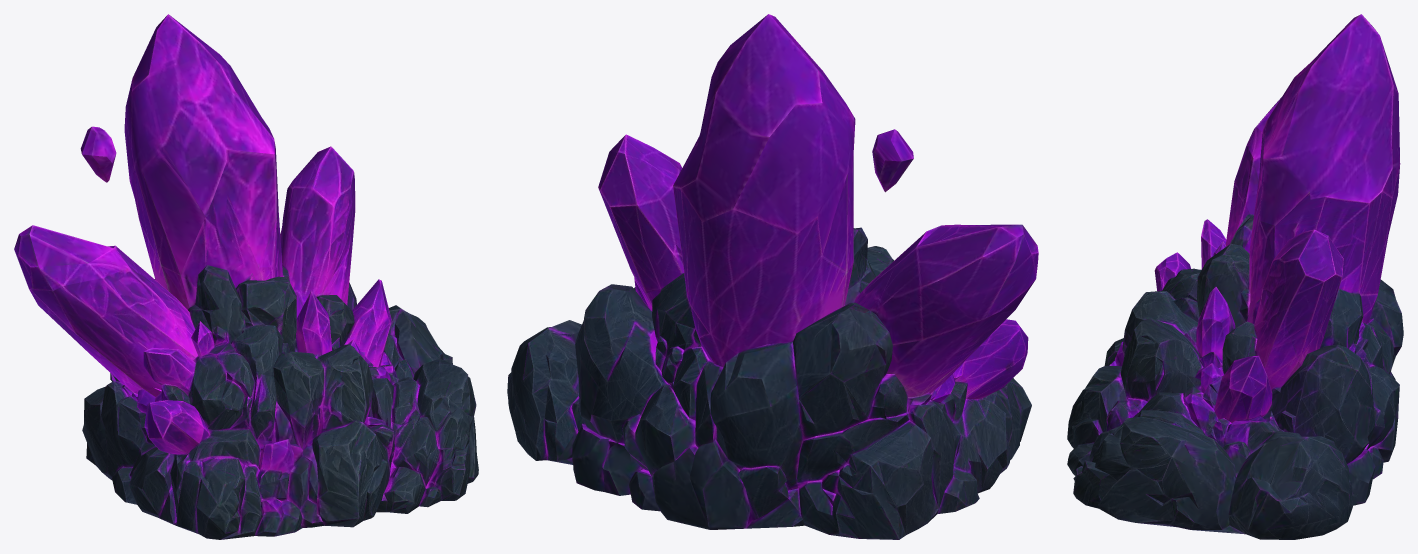
File: ley_crystal.glb
The picture shows the model from 3 angles, left to right: view 1: azimuth 30°, elevation 25°; view 2: azimuth 150°, elevation 25°; view 3: azimuth 270°, elevation 25°; orthographic projection. The views are drawn at different scales.
Visible parts, largest first — view 1: Mesh_0; view 2: Mesh_0; view 3: Mesh_0.
Boxes of the visible parts, left/top/right/bottom form: Mesh_0: left=14, top=14, right=478, bottom=539; Mesh_0: left=507, top=14, right=1038, bottom=539; Mesh_0: left=1067, top=14, right=1403, bottom=539.
Bounding box in the file's own units: 1.9 × 1.77 × 1.3.
1 material, 1 textured.
